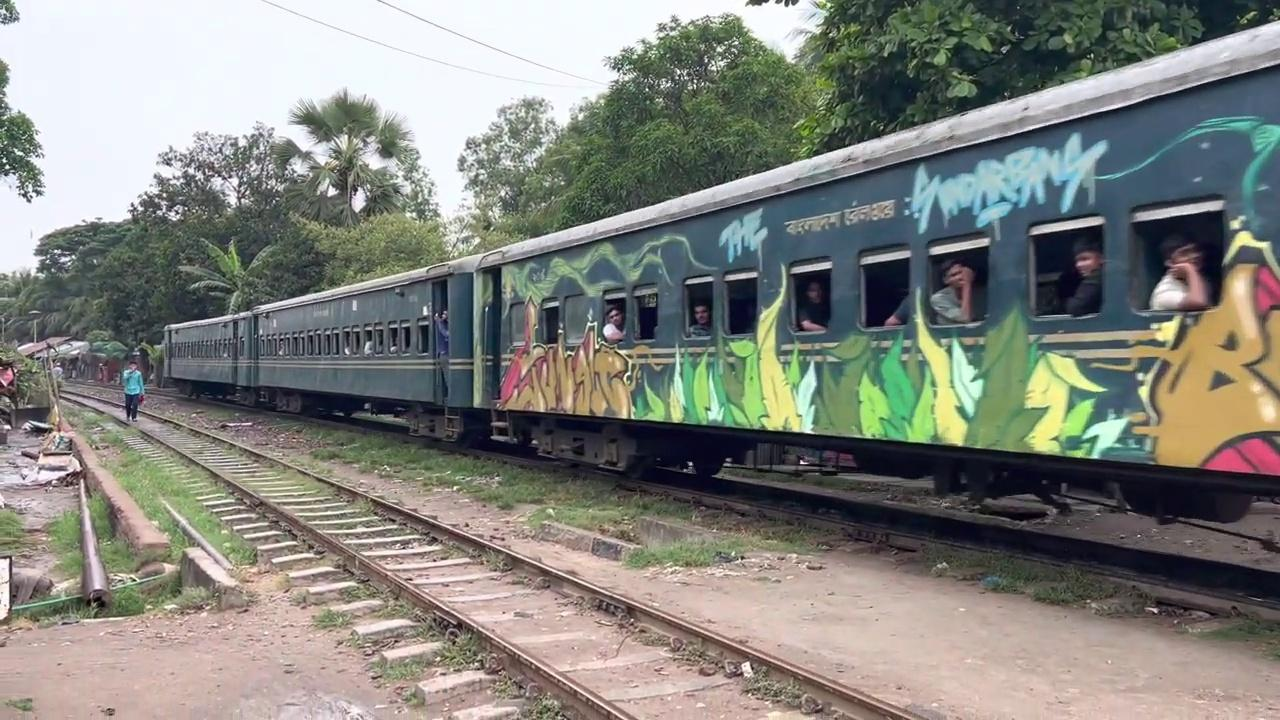Fence: (1148, 236, 1210, 311), (1051, 237, 1104, 316), (796, 278, 829, 331), (121, 359, 145, 422), (601, 305, 626, 344), (688, 302, 711, 336), (433, 309, 448, 358)
Motorcycle: (20, 374, 799, 718)
Potted-plant: (152, 20, 1278, 515)
Railroad-crossing: (520, 11, 828, 234), (271, 86, 418, 228), (455, 94, 563, 251)
